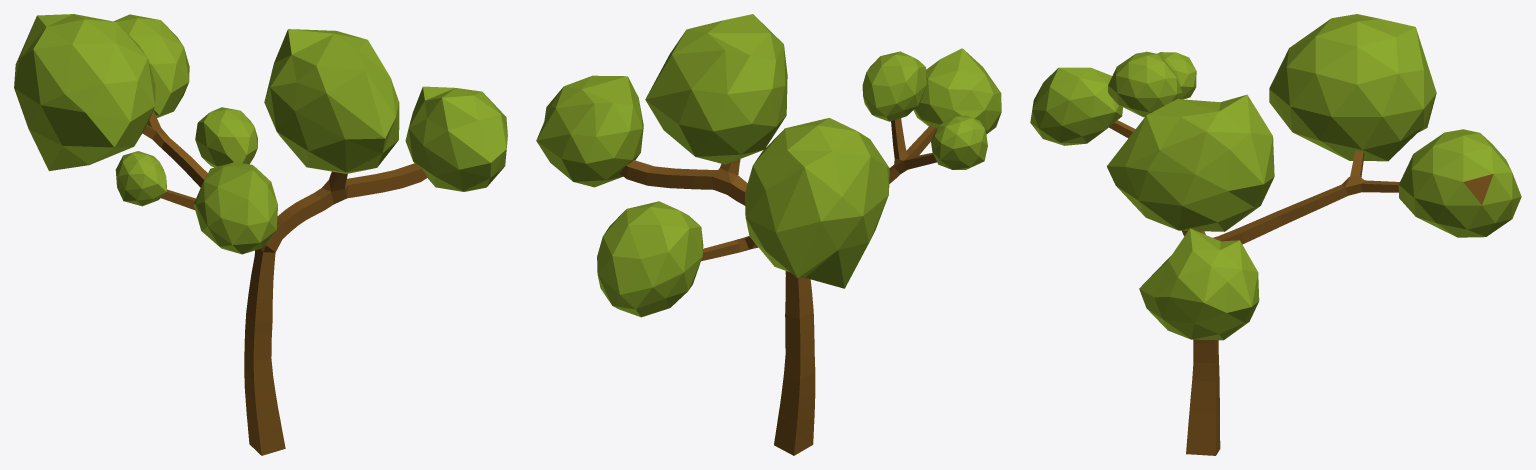
The model's file is LP_Tree2.fbx.
3 views of the same model, side by side, from view 1: azimuth 30°, elevation 25°; view 2: azimuth 150°, elevation 25°; view 3: azimuth 270°, elevation 25° (orthographic). The views are drawn at different scales.
Visible parts, largest first — view 1: LP_Tree2; view 2: LP_Tree2; view 3: LP_Tree2.
Boxes of the visible parts, bbox=[...] form: LP_Tree2: bbox=[14, 14, 507, 455]; LP_Tree2: bbox=[536, 14, 1001, 455]; LP_Tree2: bbox=[1030, 14, 1521, 455].
Bounding box in the file's own units: 1.03 × 0.9585 × 1.11.
